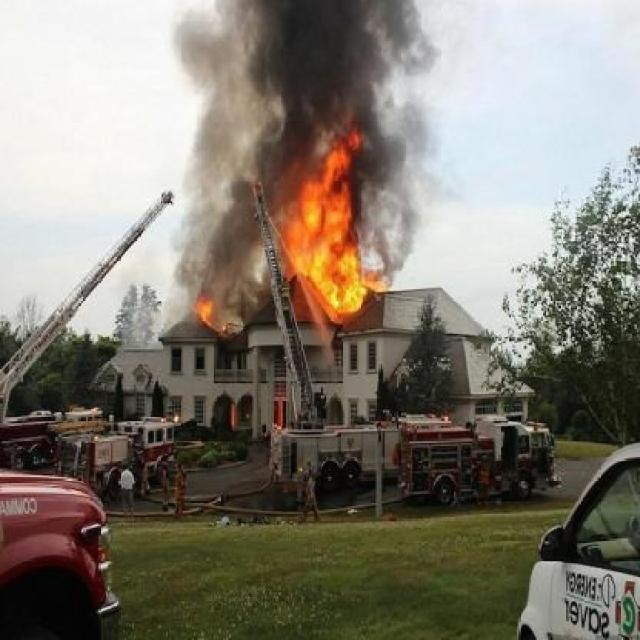Fire: (281, 142, 370, 350), (197, 302, 223, 332)
Smoke: (151, 7, 468, 129), (162, 159, 256, 296)
